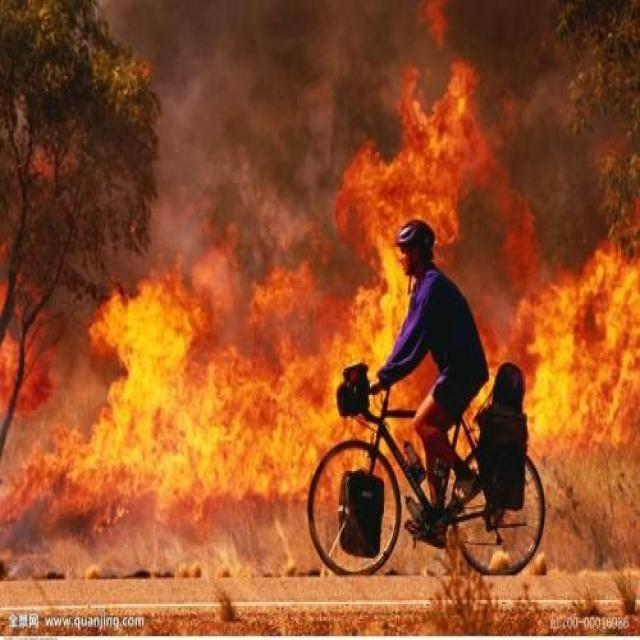Fire: (1, 2, 640, 528)
Smoke: (1, 2, 640, 386)
